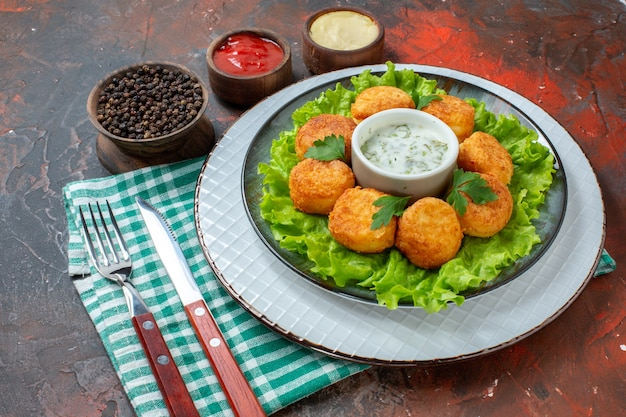knife: (133, 198, 272, 417)
